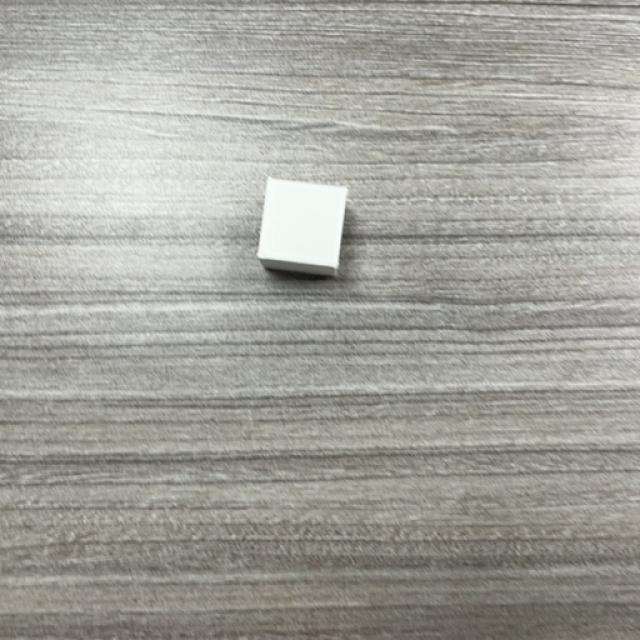Blanco: (256, 179, 348, 280)
